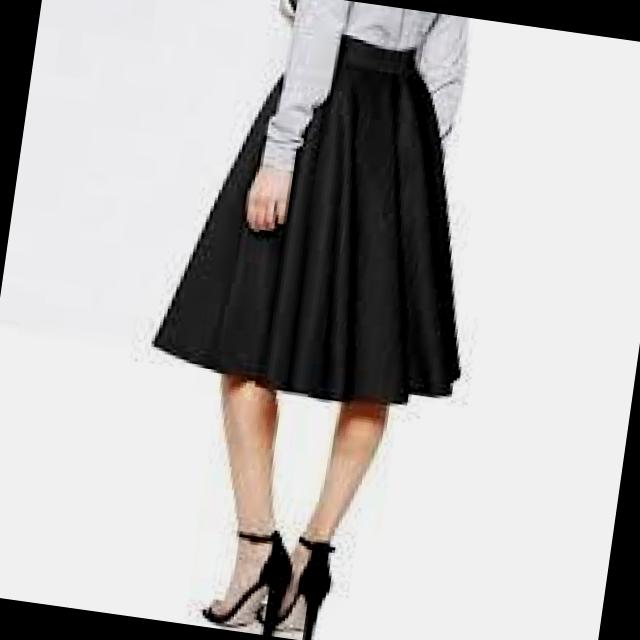skirt: (147, 14, 508, 421)
